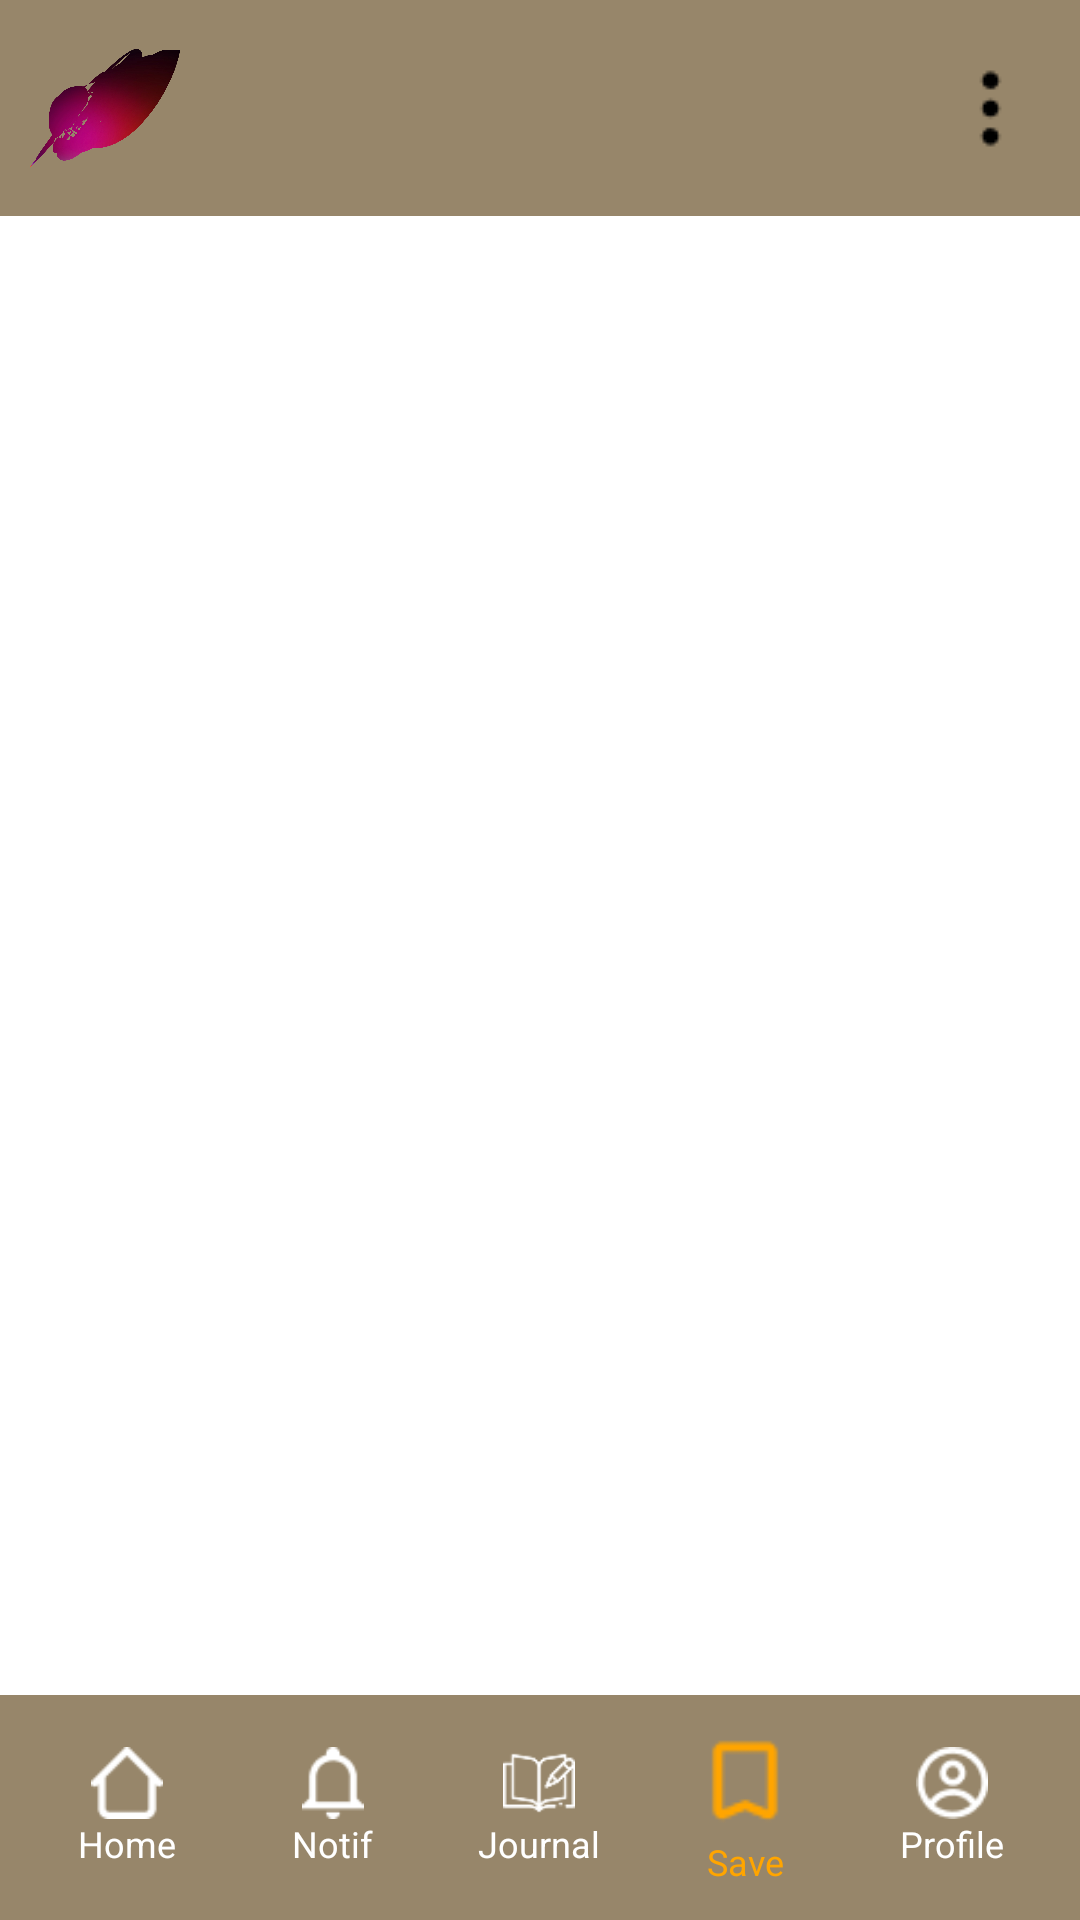

Screen size 1080*1920. Icon name, then its center in pixels as [x,y]:
Menu: [990,108]
